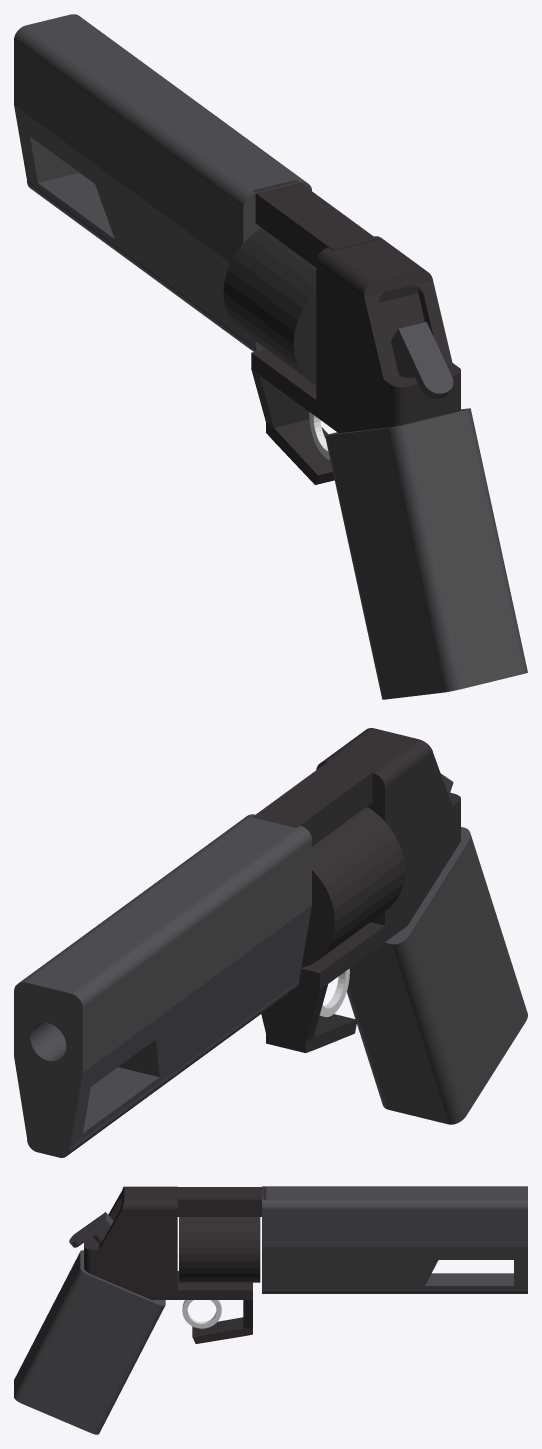
File: Sheriff.obj
The picture shows the model from 3 angles, top to bottom: view 1: azimuth 30°, elevation 25°; view 2: azimuth 150°, elevation 25°; view 3: azimuth 270°, elevation 25°; orthographic projection. The views are drawn at different scales.
Parts seen in each view (by area): view 1: barrel_立方体.001, grip_立方体.006, flame_立方体.005, cylinder_円柱, hammer_立方体.009; view 2: barrel_立方体.001, grip_立方体.006, flame_立方体.005, cylinder_円柱, trigger_円; view 3: barrel_立方体.001, grip_立方体.006, flame_立方体.005, cylinder_円柱, hammer_立方体.009, trigger_円.
Part boxes in pixels (<box>): barrel_立方体.001: <box>14,14,311,351</box>; grip_立方体.006: <box>325,408,527,699</box>; flame_立方体.005: <box>251,180,460,484</box>; cylinder_円柱: <box>223,228,316,384</box>; hammer_立方体.009: <box>391,322,453,398</box>; barrel_立方体.001: <box>14,814,311,1157</box>; grip_立方体.006: <box>347,827,527,1124</box>; flame_立方体.005: <box>252,728,460,1052</box>; cylinder_円柱: <box>301,807,405,967</box>; trigger_円: <box>319,968,349,1017</box>; barrel_立方体.001: <box>262,1186,527,1293</box>; grip_立方体.006: <box>14,1250,165,1434</box>; flame_立方体.005: <box>84,1186,266,1343</box>; cylinder_円柱: <box>179,1217,260,1282</box>; hammer_立方体.009: <box>69,1212,113,1247</box>; trigger_円: <box>182,1300,221,1328</box>.
Bounding box in the file's own units: 0.7072 × 2.42 × 4.87.
